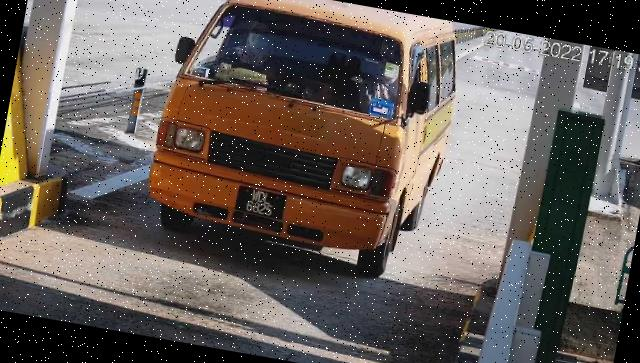License_Plate: (233, 182, 290, 225)
van: (141, 1, 469, 286)
